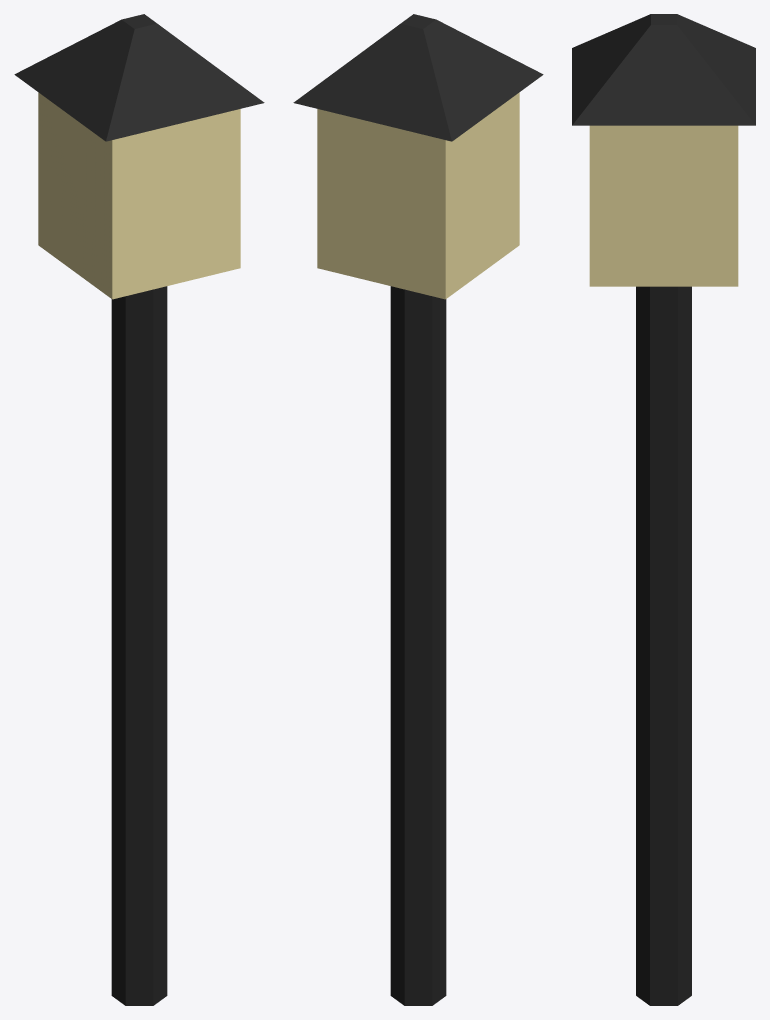
File: gardenLamp.fbx
3 views of the same model, side by side, from view 1: azimuth 30°, elevation 25°; view 2: azimuth 150°, elevation 25°; view 3: azimuth 270°, elevation 25° (orthographic).
Visible parts, largest first — view 1: gardenLamp; view 2: gardenLamp; view 3: gardenLamp.
Part boxes in pixels (bbox=[...]): gardenLamp: bbox=[14, 14, 264, 1005]; gardenLamp: bbox=[293, 14, 543, 1005]; gardenLamp: bbox=[572, 14, 755, 1005].
Bounding box in the file's own units: 0.792 × 4.64 × 0.792.
